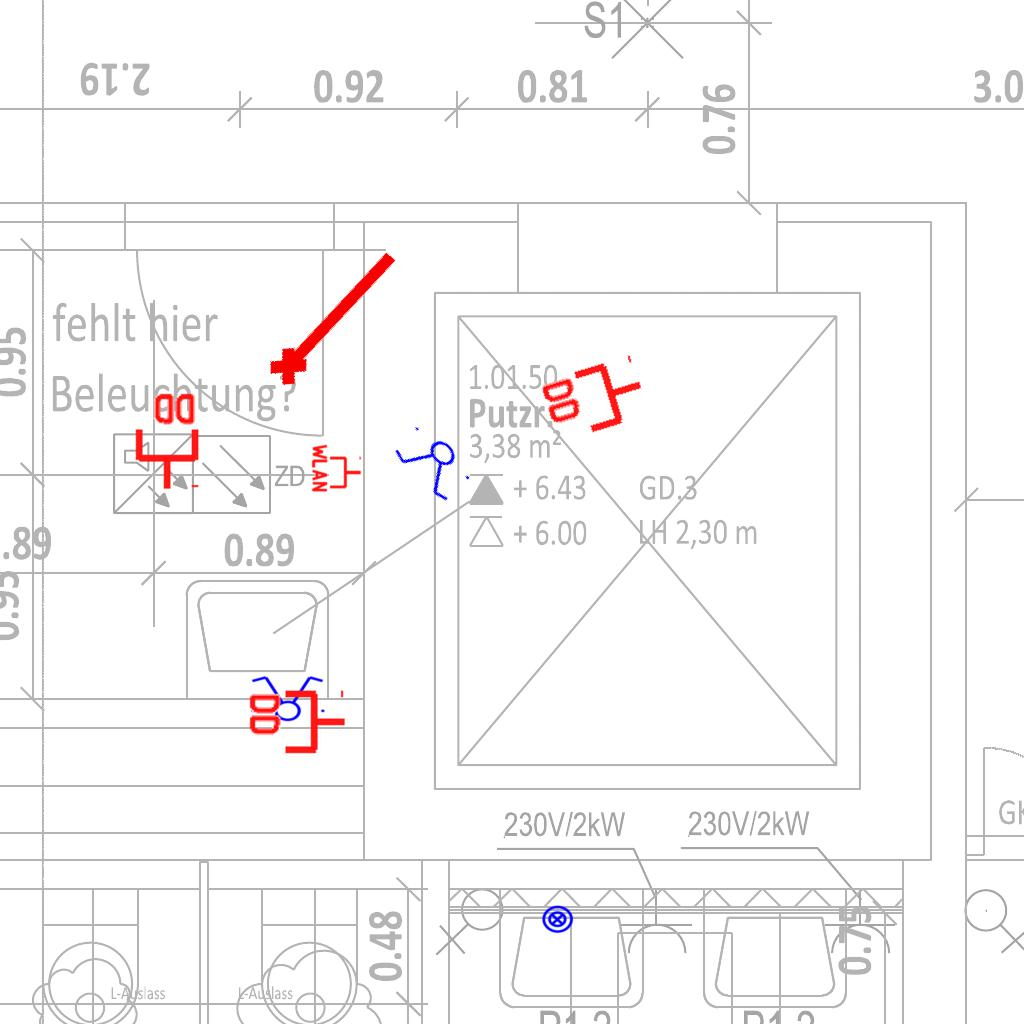ASR_Ansaugoeffnung: (256, 234, 410, 396)
Datenanschluss_zweifach: (535, 352, 654, 449), (131, 389, 200, 492), (245, 689, 348, 758)
Serienschalter: (387, 416, 481, 510), (245, 674, 329, 722)
Taster_beleuchtet: (541, 903, 574, 936)
WLAN: (311, 442, 363, 494)
